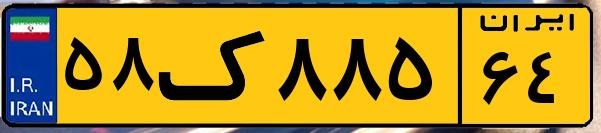4: (525, 38, 570, 115)
5: (385, 28, 445, 110), (57, 26, 110, 100)
6: (475, 38, 525, 113)
8: (270, 28, 330, 110), (330, 28, 385, 110), (110, 28, 158, 98)
ک: (158, 12, 270, 120)
